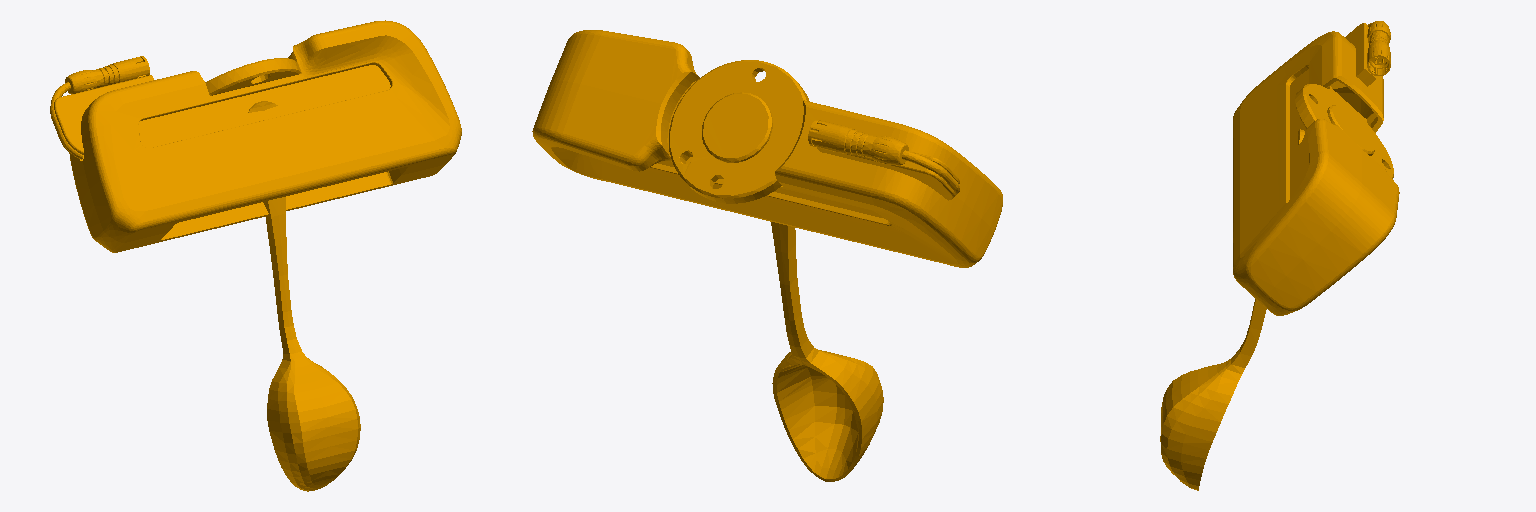
robot.urdf — panda:
<?xml version="1.0" ?>
<robot name="panda" xmlns:xacro="http://www.ros.org/wiki/xacro">
  <link name="panda_link0">
    <visual>
      <geometry>
        <mesh filename="meshes/visual/link0.dae"/>
      </geometry>
    </visual>
    <collision>
      <geometry>
        <mesh filename="meshes/collision/link0.obj"/>
      </geometry>
    </collision>
  </link>
  <link name="panda_link1">
    <visual>
      <geometry>
        <mesh filename="meshes/visual/link1.dae"/>
      </geometry>
    </visual>
    <collision>
      <geometry>
        <mesh filename="meshes/collision/link1.obj"/>
      </geometry>
    </collision>
  </link>
  <joint name="panda_joint1" type="revolute">
    <safety_controller k_position="100.0" k_velocity="40.0" soft_lower_limit="-2.8973" soft_upper_limit="2.8973"/>
    <origin rpy="0 0 0" xyz="0 0 0.333"/>
    <parent link="panda_link0"/>
    <child link="panda_link1"/>
    <axis xyz="0 0 1"/>
    <dynamics damping="10.0"/>
    <limit effort="87" lower="-2.8973" upper="2.8973" velocity="2.1750"/>
  </joint>
  <link name="panda_link2">
    <visual>
      <geometry>
        <mesh filename="meshes/visual/link2.dae"/>
      </geometry>
    </visual>
    <collision>
      <geometry>
        <mesh filename="meshes/collision/link2.obj"/>
      </geometry>
    </collision>
  </link>
  <joint name="panda_joint2" type="revolute">
    <safety_controller k_position="100.0" k_velocity="40.0" soft_lower_limit="-1.7628" soft_upper_limit="1.7628"/>
    <origin rpy="-1.57079632679 0 0" xyz="0 0 0"/>
    <parent link="panda_link1"/>
    <child link="panda_link2"/>
    <axis xyz="0 0 1"/>
    <dynamics damping="10.0"/>
    <limit effort="87" lower="-1.7628" upper="1.7628" velocity="2.1750"/>
  </joint>
  <link name="panda_link3">
    <visual>
      <geometry>
        <mesh filename="meshes/visual/link3.dae"/>
      </geometry>
    </visual>
    <collision>
      <geometry>
        <mesh filename="meshes/collision/link3.obj"/>
      </geometry>
    </collision>
  </link>
  <joint name="panda_joint3" type="revolute">
    <safety_controller k_position="100.0" k_velocity="40.0" soft_lower_limit="-2.8973" soft_upper_limit="2.8973"/>
    <origin rpy="1.57079632679 0 0" xyz="0 -0.316 0"/>
    <parent link="panda_link2"/>
    <child link="panda_link3"/>
    <axis xyz="0 0 1"/>
    <dynamics damping="10.0"/>
    <limit effort="87" lower="-2.8973" upper="2.8973" velocity="2.1750"/>
  </joint>
  <link name="panda_link4">
    <visual>
      <geometry>
        <mesh filename="meshes/visual/link4.dae"/>
      </geometry>
    </visual>
    <collision>
      <geometry>
        <mesh filename="meshes/collision/link4.obj"/>
      </geometry>
    </collision>
  </link>
  <joint name="panda_joint4" type="revolute">
    <safety_controller k_position="100.0" k_velocity="40.0" soft_lower_limit="-3.0718" soft_upper_limit="-0.0698"/>
    <origin rpy="1.57079632679 0 0" xyz="0.0825 0 0"/>
    <parent link="panda_link3"/>
    <child link="panda_link4"/>
    <axis xyz="0 0 1"/>    
    <dynamics damping="10.0"/>
    <limit effort="87" lower="-3.0718" upper="-0.0698" velocity="2.1750"/>
    <!-- something is weird with this joint limit config
    <dynamics damping="10.0"/>
    <limit effort="87" lower="-3.0" upper="0.087" velocity="2.1750"/>  -->
  </joint>
  <link name="panda_link5">
    <visual>
      <geometry>
        <mesh filename="meshes/visual/link5.dae"/>
      </geometry>
    </visual>
    <collision>
      <geometry>
        <mesh filename="meshes/collision/link5.obj"/>
      </geometry>
    </collision>
  </link>
  <joint name="panda_joint5" type="revolute">
    <safety_controller k_position="100.0" k_velocity="40.0" soft_lower_limit="-2.8973" soft_upper_limit="2.8973"/>
    <origin rpy="-1.57079632679 0 0" xyz="-0.0825 0.384 0"/>
    <parent link="panda_link4"/>
    <child link="panda_link5"/>
    <axis xyz="0 0 1"/>
    <dynamics damping="10.0"/>
    <limit effort="12" lower="-2.8973" upper="2.8973" velocity="2.6100"/>
  </joint>
  <link name="panda_link6">
    <visual>
      <geometry>
        <mesh filename="meshes/visual/link6.dae"/>
      </geometry>
    </visual>
    <collision>
      <geometry>
        <mesh filename="meshes/collision/link6.obj"/>
      </geometry>
    </collision>
  </link>
  <joint name="panda_joint6" type="revolute">
    <safety_controller k_position="100.0" k_velocity="40.0" soft_lower_limit="-0.0175" soft_upper_limit="3.7525"/>
    <origin rpy="1.57079632679 0 0" xyz="0 0 0"/>
    <parent link="panda_link5"/>
    <child link="panda_link6"/>
    <axis xyz="0 0 1"/>
    <dynamics damping="10.0"/>
    <limit effort="12" lower="-0.0175" upper="3.7525" velocity="2.6100"/>
    <!-- <dynamics damping="10.0"/>
    <limit effort="12" lower="-0.0873" upper="3.0" velocity="2.6100"/> -->
  </joint>
  <link name="panda_link7">
    <visual>
      <geometry>
        <mesh filename="meshes/visual/link7.dae"/>
      </geometry>
    </visual>
    <collision>
      <geometry>
        <mesh filename="meshes/collision/link7.obj"/>
      </geometry>
    </collision>
  </link>
  <joint name="panda_joint7" type="revolute">
    <safety_controller k_position="100.0" k_velocity="40.0" soft_lower_limit="-2.8973" soft_upper_limit="2.8973"/>
    <origin rpy="1.57079632679 0 0" xyz="0.088 0 0"/>
    <parent link="panda_link6"/>
    <child link="panda_link7"/>
    <axis xyz="0 0 1"/>
    <dynamics damping="10.0"/>
    <limit effort="12" lower="-2.8973" upper="2.8973" velocity="2.6100"/>
  </joint>
  <!--
  <link name="panda_link8"/>
  <joint name="panda_joint8" type="fixed">
    <origin rpy="0 0 0" xyz="0 0 0.107"/>
    <parent link="panda_link7"/>
    <child link="panda_link8"/>
    <axis xyz="0 0 0"/>
  </joint>
  Removing this joint seems to help with some stability things
  -->
  <joint name="panda_hand_joint" type="fixed">
    <!--
    <parent link="panda_link8"/>
    -->
    <parent link="panda_link7"/>
    <child link="panda_hand"/>
    <origin rpy="0 0 -0.785398163397" xyz="0 0 0.107"/>
    <!--
    <origin rpy="0 0 -0.785398163397" xyz="0 0 0"/>
    -->
  </joint>
  <link name="panda_hand">
    <visual>
      <geometry>
        <mesh filename="meshes/visual/spoon_hand.obj"/>
      </geometry>
    </visual>
    <collision>
      <geometry>
        <mesh filename="meshes/collision/spoon.obj"/>
      </geometry>
    </collision>
  <inertial>
    <mass value="0.5"/> 
    <inertia ixx="0.0001" ixy="0.0" ixz="0.0" iyy="0.0001" iyz="0.0" izz="0.0001"/>
  </inertial>
  </link>
  <link name="panda_leftfinger">
    <visual>
      <geometry>
        <mesh filename="meshes/visual/finger.dae"/>
      </geometry>
    </visual>
    <collision>
      <geometry>
        <mesh filename="meshes/collision/finger.obj"/>
      </geometry>
    </collision>
  </link>
  <link name="panda_rightfinger">
    <visual>
      <origin rpy="0 0 3.14159265359" xyz="0 0 0"/>
      <geometry>
        <mesh filename="meshes/visual/finger.dae"/>
      </geometry>
    </visual>
    <collision>
      <origin rpy="0 0 3.14159265359" xyz="0 0 0"/>
      <geometry>
        <mesh filename="meshes/collision/finger.obj"/>
      </geometry>
    </collision>
  </link>
  <joint name="panda_finger_joint1" type="prismatic">
    <parent link="panda_hand"/>
    <child link="panda_leftfinger"/>
    <origin rpy="0 0 0" xyz="0 0 0.0584"/>
    <axis xyz="0 1 0"/>
    <dynamics damping="10.0"/>
    <limit effort="20" lower="0.0" upper="0.04" velocity="0.2"/>
  </joint>
  <joint name="panda_finger_joint2" type="prismatic">
    <parent link="panda_hand"/>
    <child link="panda_rightfinger"/>
    <origin rpy="0 0 0" xyz="0 0 0.0584"/>
    <axis xyz="0 -1 0"/>
    <dynamics damping="10.0"/>
    <limit effort="20" lower="0.0" upper="0.04" velocity="0.2"/>
    <mimic joint="panda_finger_joint1"/>
  </joint>
</robot>

--- Render facts (derived) ---
The picture shows the robot from 3 angles, left to right: view 1: azimuth 30°, elevation 25°; view 2: azimuth 150°, elevation 25°; view 3: azimuth 270°, elevation 25°; orthographic projection.
Model panda with 11 links and 10 joints (7 revolute, 2 prismatic, 1 fixed), rooted at panda_link0, posed joints at zero except 1 at the middle of their limits (panda_joint4 = -1.57).
Links seen in each view (by area): view 1: panda_hand; view 2: panda_hand; view 3: panda_hand.
Boxes of the visible links, x1,y1,x2,y2 form: panda_hand: (50,20,461,491); panda_hand: (532,30,1002,481); panda_hand: (1160,21,1399,490).
Bounding box of the posed robot: 0.2045 × 0.117 × 0.2177 m (x, y, z).
1 mesh visuals loaded from 10 distinct referenced files (1 OBJ); not drawn: 10 (reference not matched to a file when rendering).